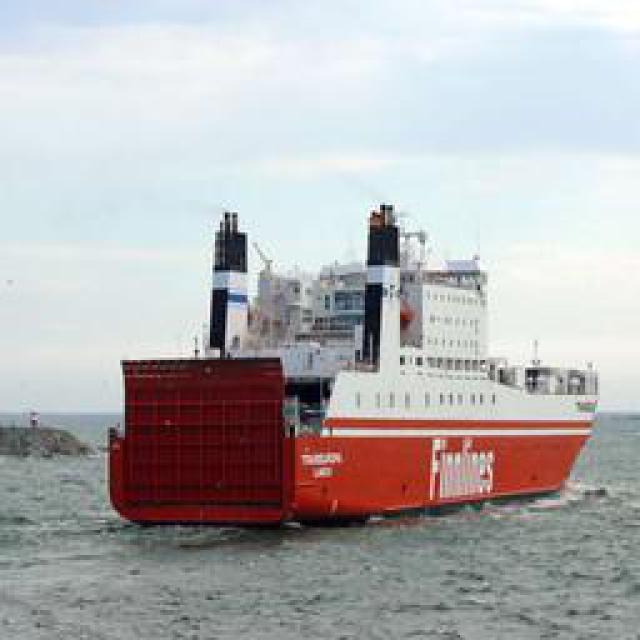Ship: (123, 186, 588, 531)
